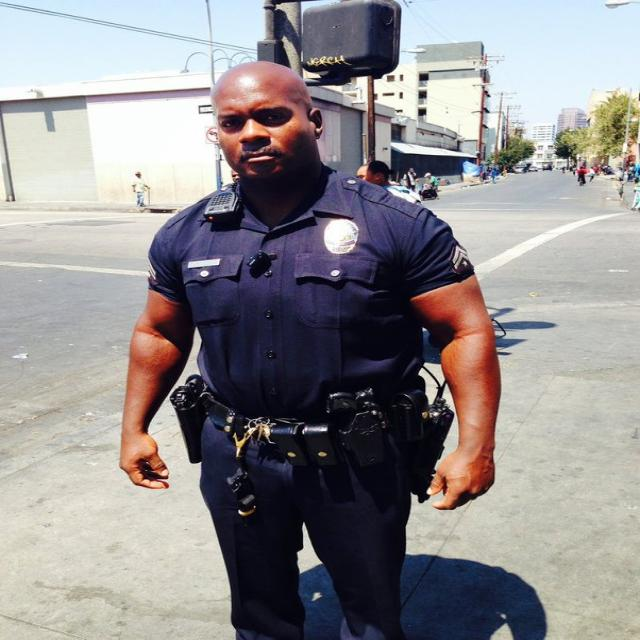police: (62, 66, 522, 630)
